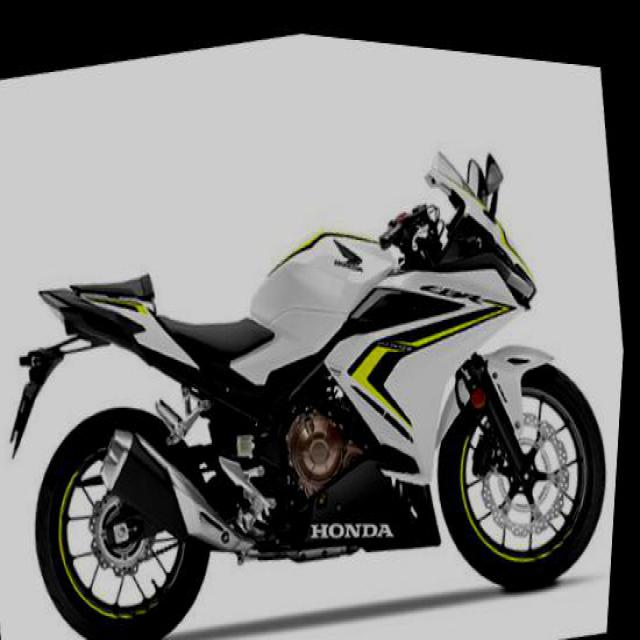CBR500R: (0, 57, 637, 638)
